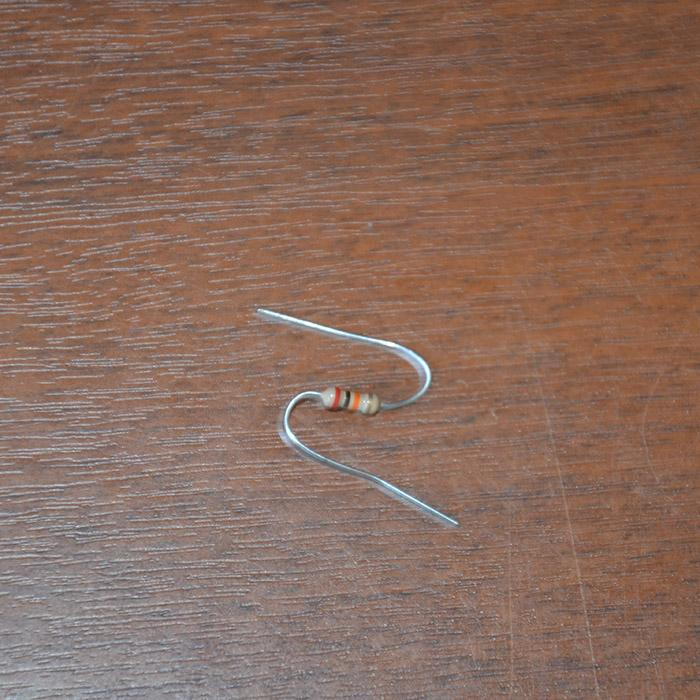resistor: (319, 385, 380, 415)
